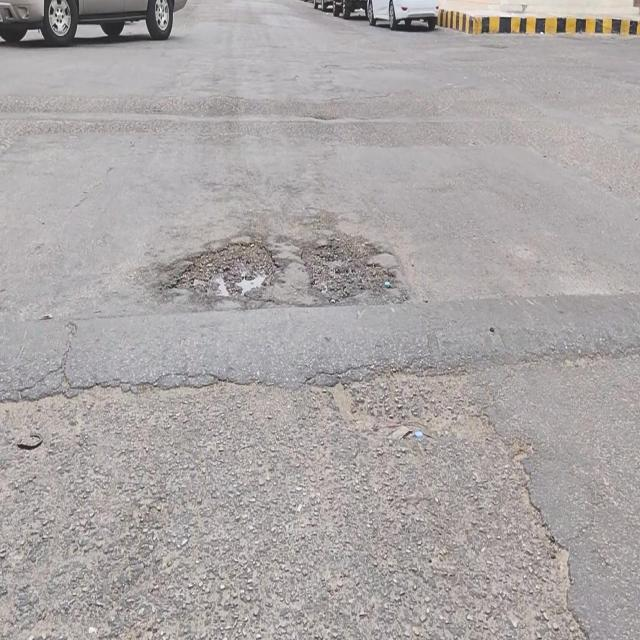Potholes: (165, 235, 275, 304), (298, 226, 394, 302)
